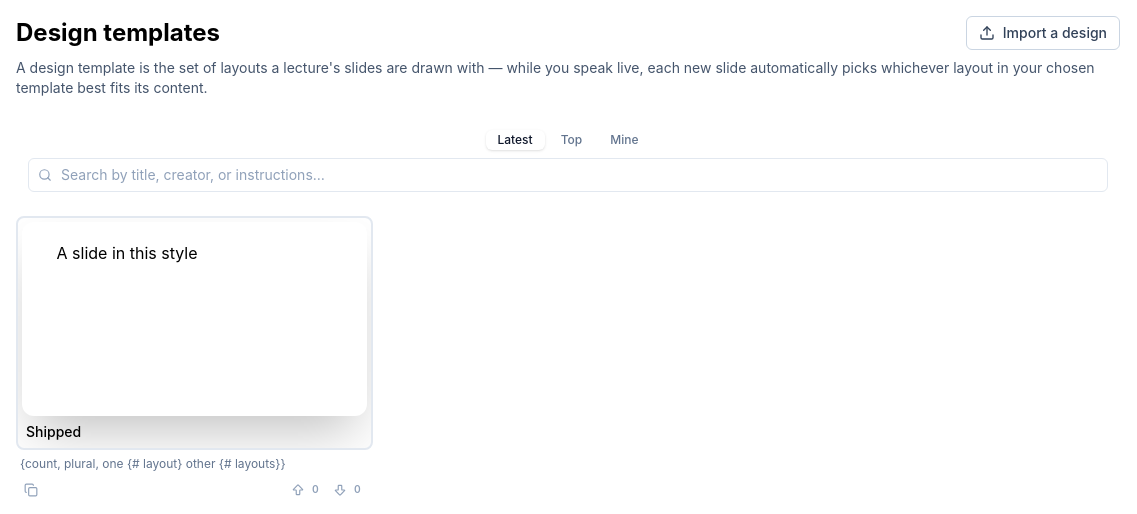
it: DesignTemplatesPage sorting and search (TMPL-28) › names the search, not the feed, when a search fails
Check: the text "Shipped" is shown, box x1=26 y1=422 x2=81 y2=442
Type "cat" into the search field. click: (568, 175)
box: x1=28 y1=158 x2=1108 y2=192
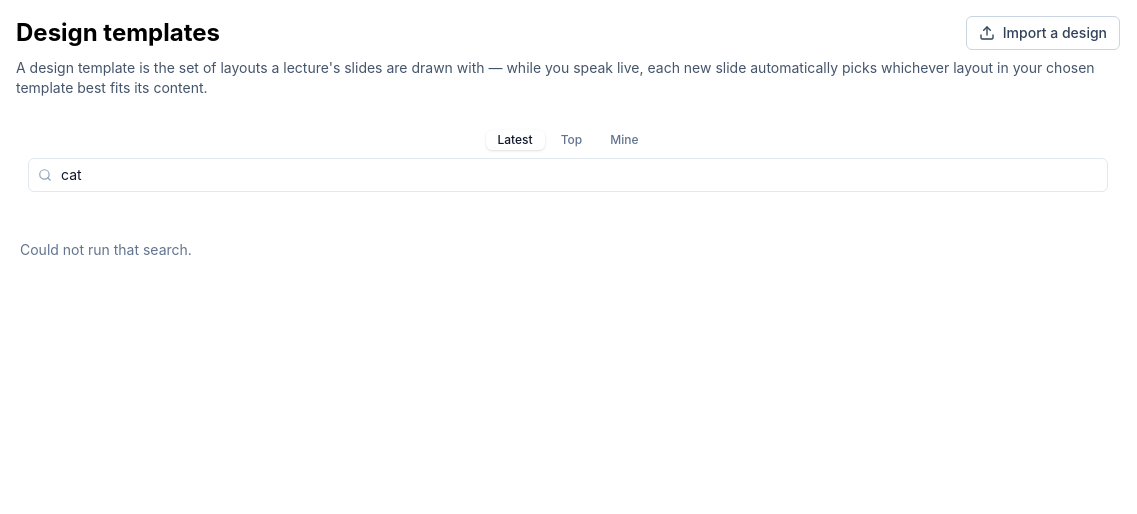
Check: the text "Could not run that search." is shown, box x1=20 y1=241 x2=192 y2=258
